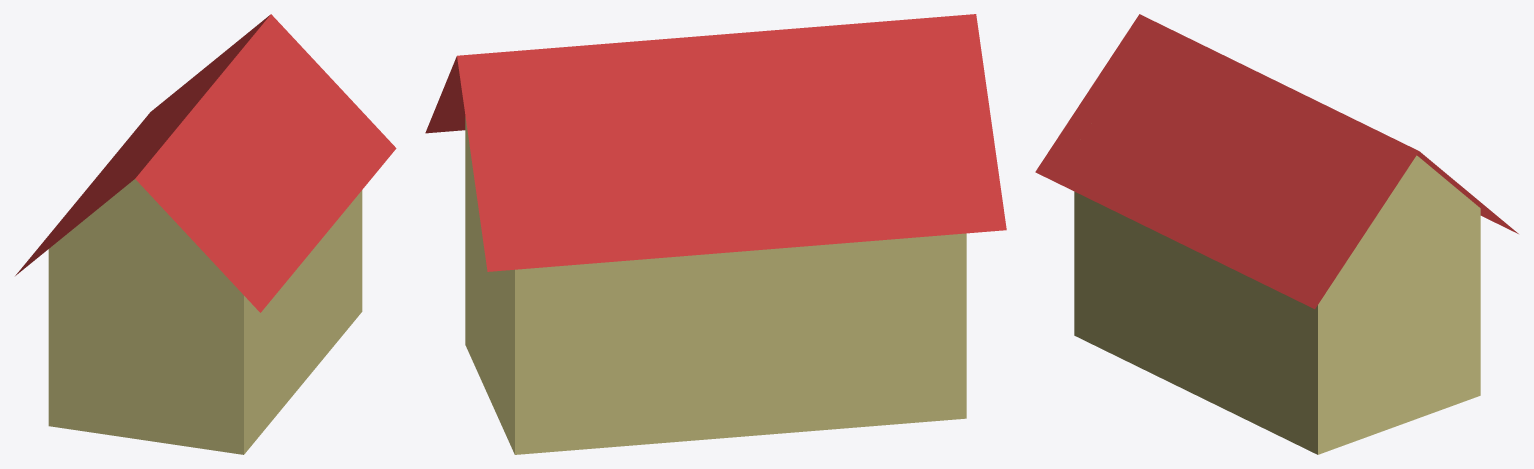
3 renders of one model, left to right at view 1: azimuth 30°, elevation 25°; view 2: azimuth 150°, elevation 25°; view 3: azimuth 270°, elevation 25°, orthographic. The views are drawn at different scales.
Size of the model in its own units: 17.97 by 17.38 by 11.17.
